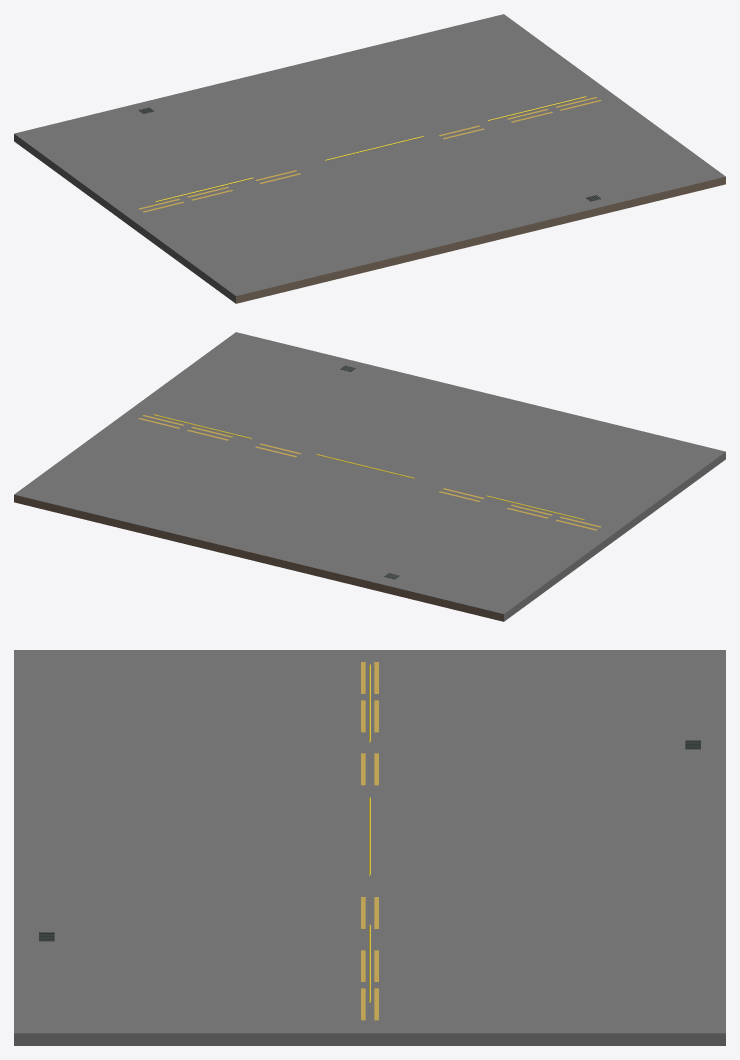
3 renders of one model, top to bottom at view 1: azimuth 30°, elevation 25°; view 2: azimuth 150°, elevation 25°; view 3: azimuth 270°, elevation 25°, orthographic. The views are drawn at different scales.
Parts seen in each view (by area): view 1: RD74 | archived geometry, Fitted street and landscape details, RD74 | line, light and sprite surfaces; view 2: RD74 | archived geometry, Fitted street and landscape details, RD74 | line, light and sprite surfaces; view 3: RD74 | archived geometry, Fitted street and landscape details.
Part boxes in pixels (box(x1,y1,x2,y2)): RD74 | archived geometry: box(14, 14, 725, 303); Fitted street and landscape details: box(138, 97, 601, 212); RD74 | line, light and sprite surfaces: box(155, 96, 586, 202); RD74 | archived geometry: box(14, 332, 725, 621); Fitted street and landscape details: box(138, 365, 601, 579); RD74 | line, light and sprite surfaces: box(153, 414, 584, 520); RD74 | archived geometry: box(14, 650, 725, 1045); Fitted street and landscape details: box(39, 662, 700, 1020).
Size of the model in its own units: 16.56 by 0.4436 by 13.
